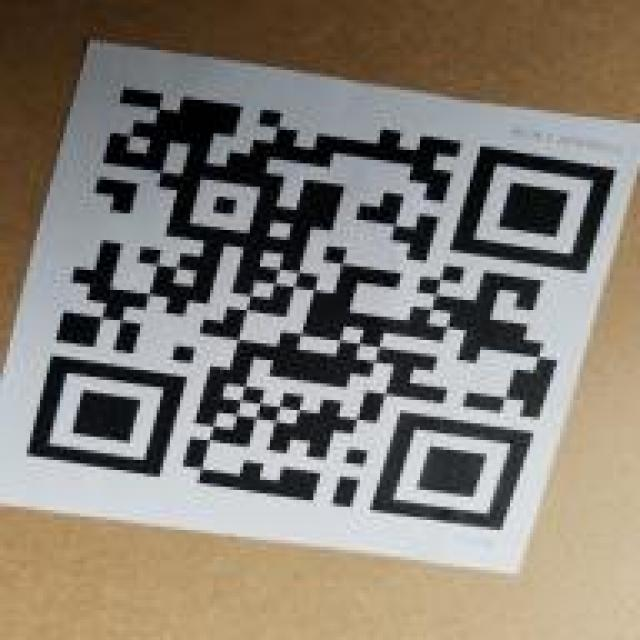QR_CODE: (18, 75, 630, 547)
